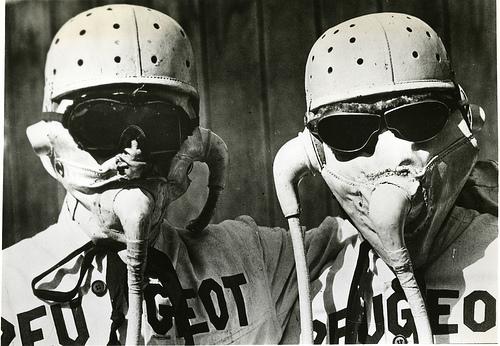helmet: (49, 15, 197, 98), (299, 29, 452, 102)
